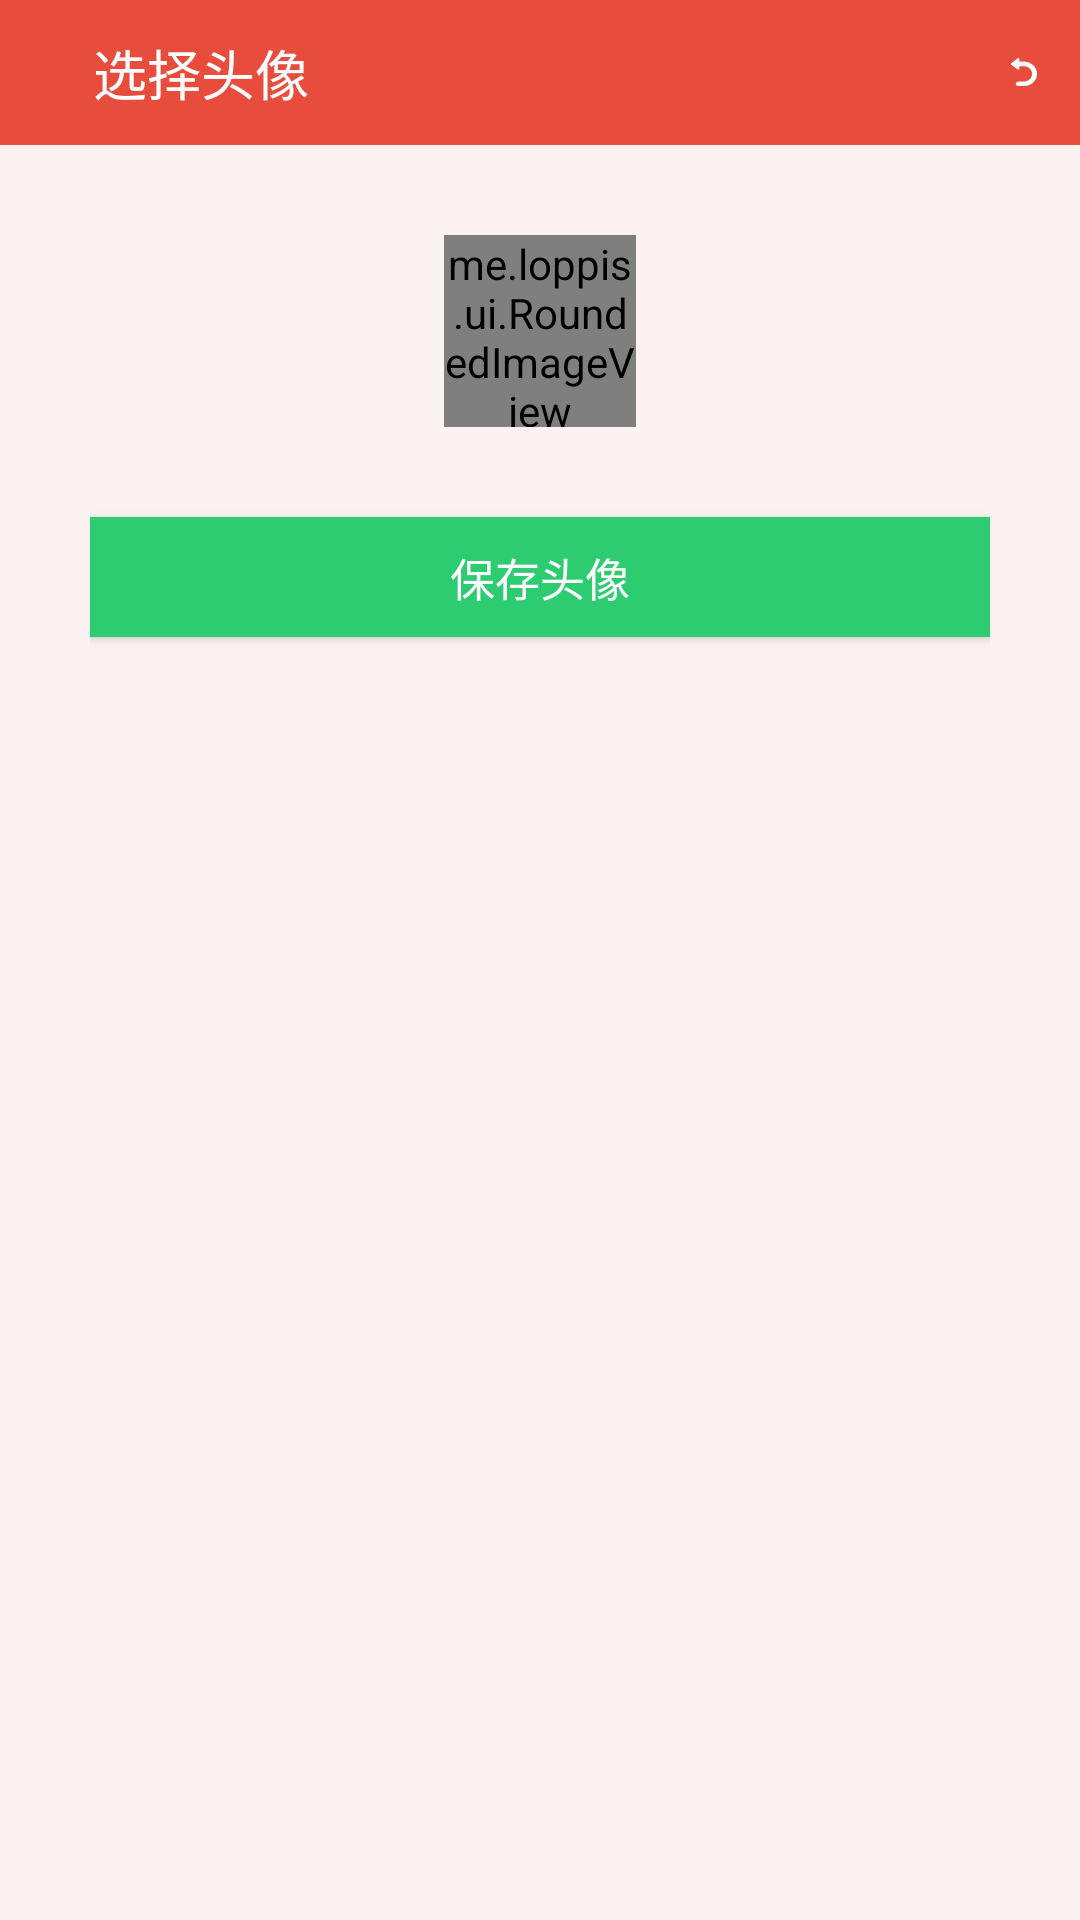

Icon bounding boxes for this 1080 x 1920 phone screenshot, format box(x1, y1, x2, y2):
back: box(1011, 58, 1037, 86)
